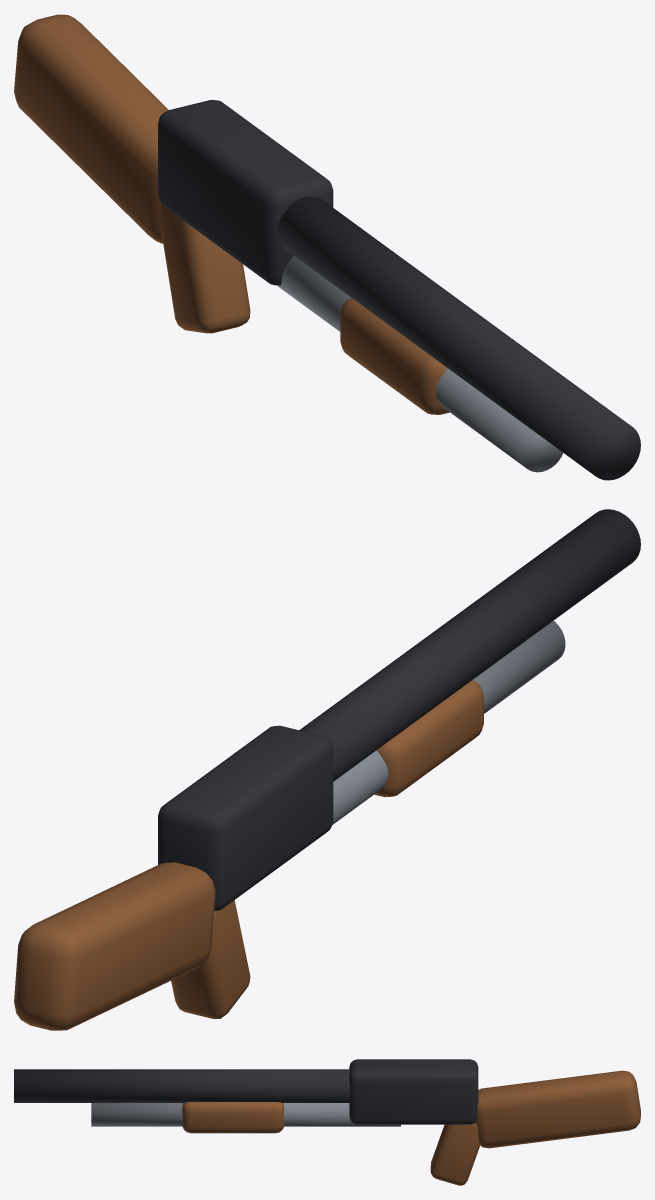
Rendered from w_shotgun.glb.
3 renders of one model, top to bottom at view 1: azimuth 30°, elevation 25°; view 2: azimuth 150°, elevation 25°; view 3: azimuth 270°, elevation 25°, orthographic. The views are drawn at different scales.
Parts seen in each view (by area): view 1: weapon; view 2: weapon; view 3: weapon.
Part boxes in pixels (x1,y1,x2,y2): weapon: (14, 14, 640, 480); weapon: (14, 509, 640, 1030); weapon: (14, 1059, 640, 1185).
Size of the model in its own units: 0.065 by 0.198 by 0.9722.
